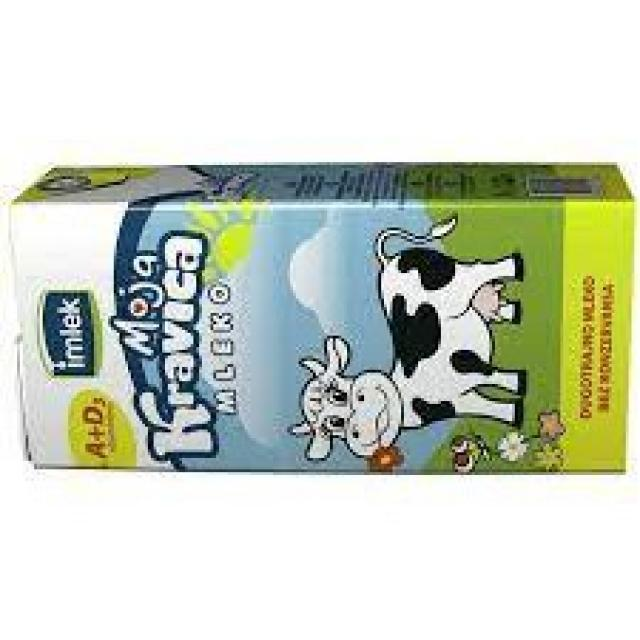non_white_jug: (6, 158, 635, 477)
